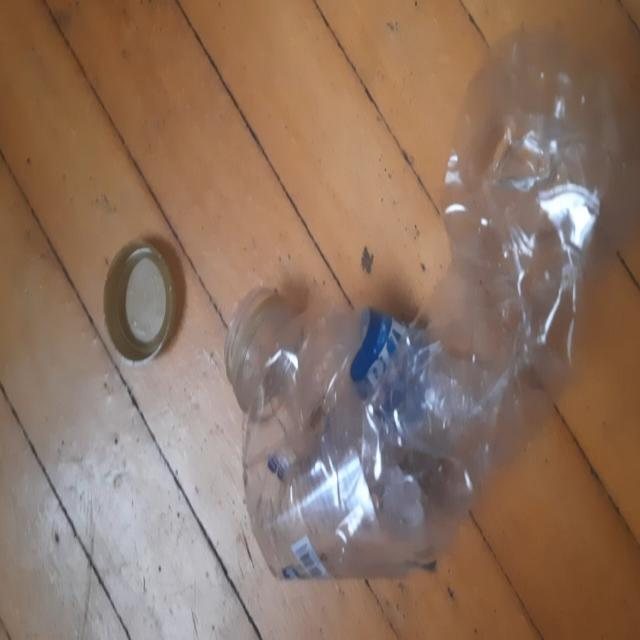Plastic: (237, 19, 627, 582)
